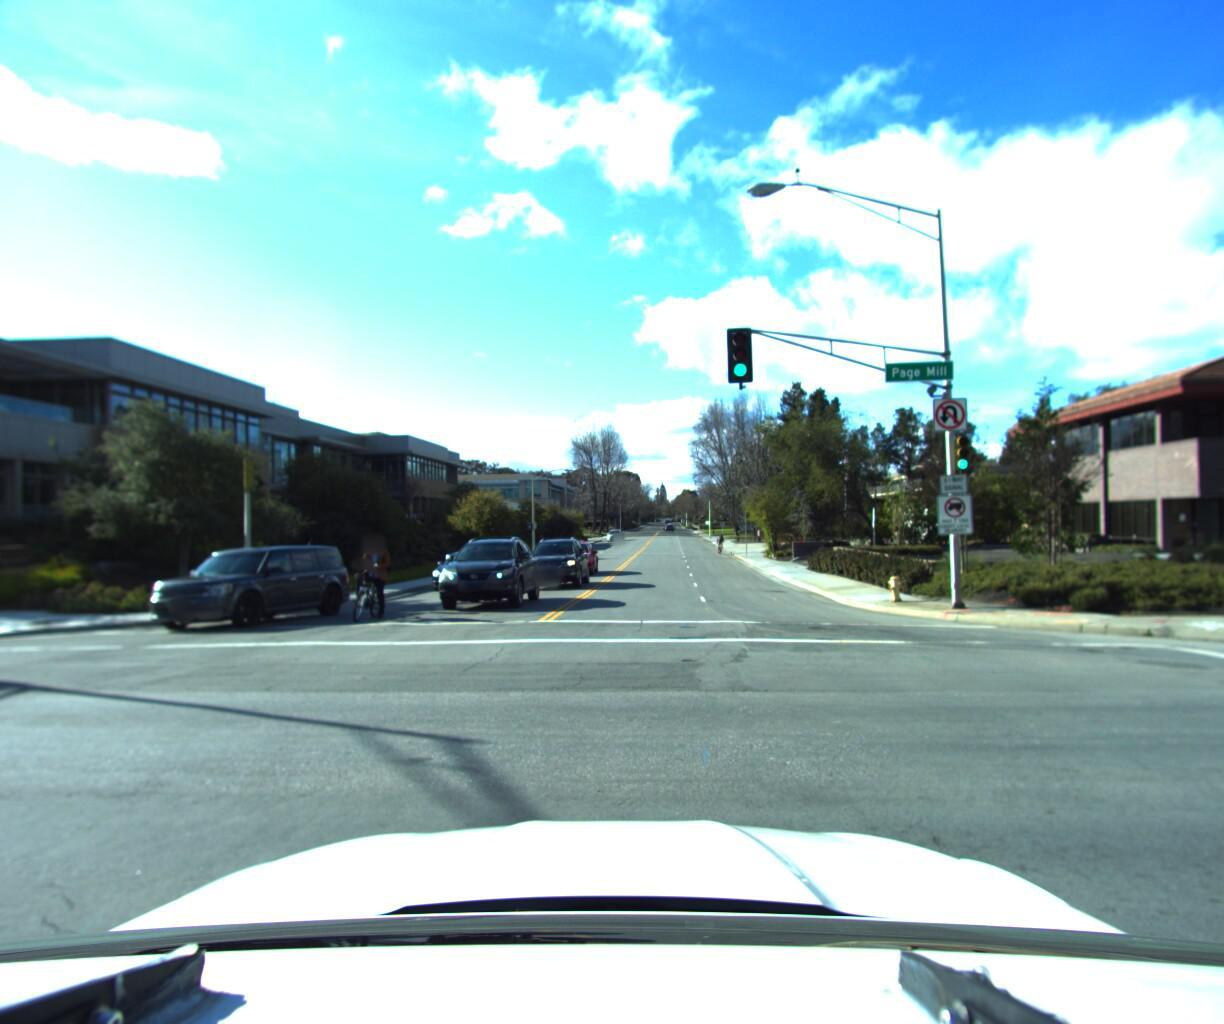bicycle: (327, 531, 405, 633), (713, 529, 724, 553)
car: (131, 540, 359, 645), (431, 534, 546, 622), (428, 545, 516, 593), (518, 535, 592, 590), (548, 536, 601, 575)
